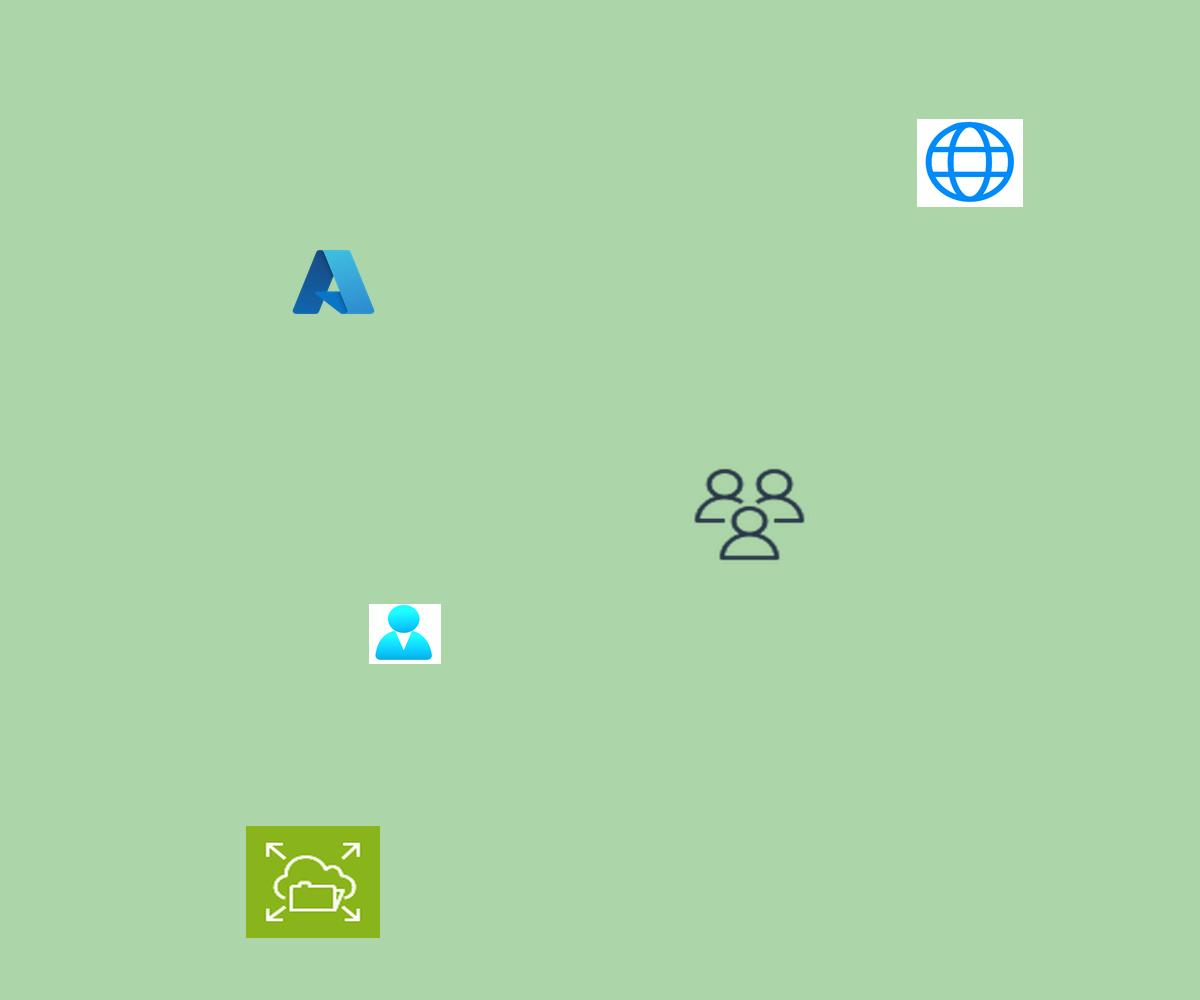AWS-EFS: (246, 826, 380, 938)
AWS-Res_Users: (690, 465, 809, 564)
Azure_http: (917, 119, 1023, 207)
Azure_services: (289, 245, 378, 319)
Azure_users: (369, 604, 441, 664)
